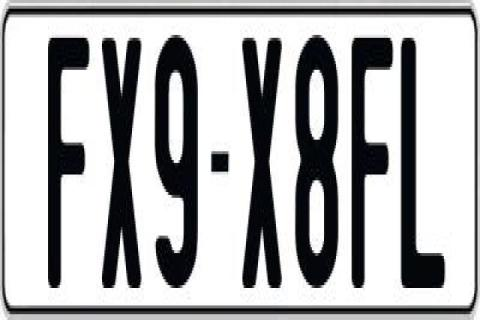0: (152, 26, 200, 294), (292, 32, 340, 300)
F: (348, 29, 392, 288), (44, 32, 85, 291)
L: (398, 35, 444, 303)
X: (242, 29, 284, 291), (98, 29, 140, 285)
